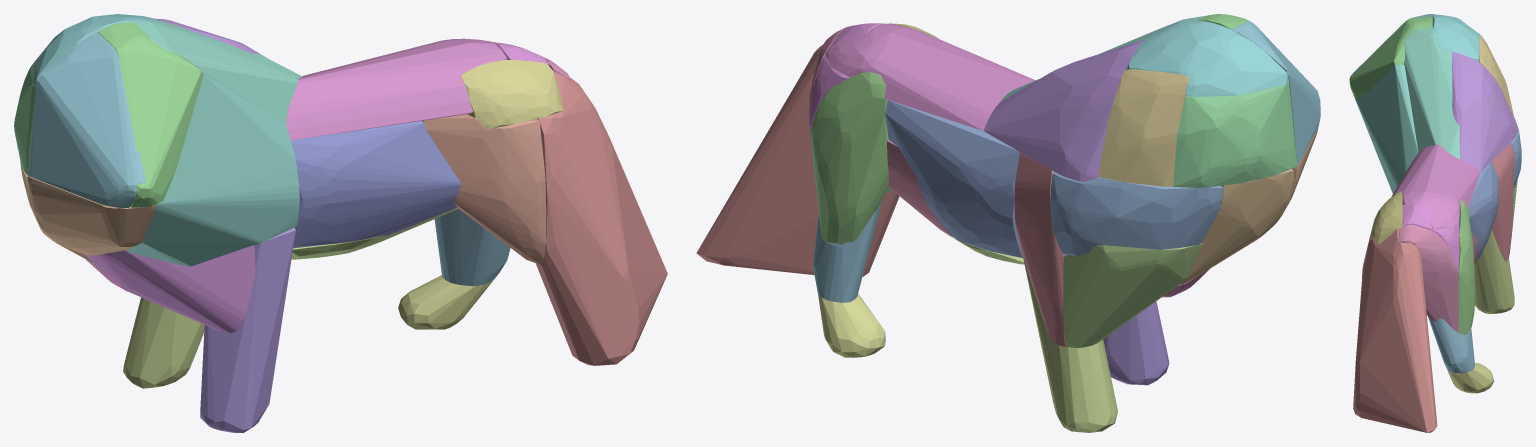
Rendered from schleich_lion_action_figure_hulls.glb.
The picture shows the model from 3 angles, left to right: view 1: azimuth 30°, elevation 25°; view 2: azimuth 150°, elevation 25°; view 3: azimuth 270°, elevation 25°; orthographic projection. The views are drawn at different scales.
Visible parts, largest first — view 1: geometry_0; view 2: geometry_0; view 3: geometry_0.
Boxes of the visible parts, bbox=[...] form: geometry_0: bbox=[14, 14, 667, 432]; geometry_0: bbox=[696, 14, 1320, 432]; geometry_0: bbox=[1349, 14, 1521, 432].
Size of the model in its own units: 0.1153 by 0.0714 by 0.0424.
